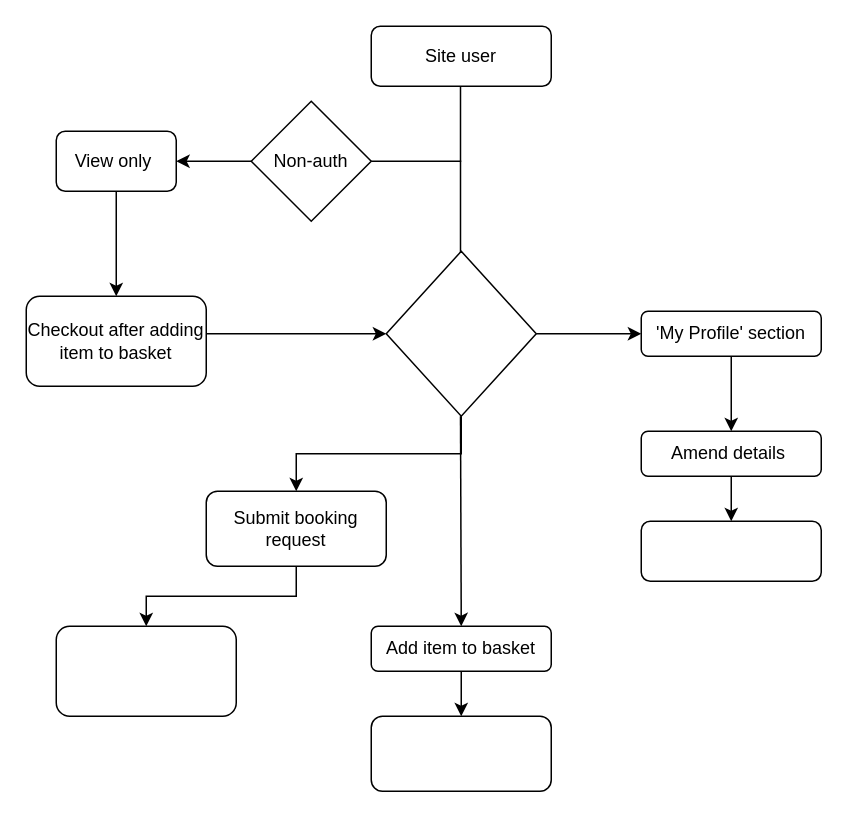
Image size: 848x818. Some labels were removed from this diagram. The centre of each missing label's shape, as x and y in pixels:
Checkout and payment: (460,753)
Delete account: (730,550)
Edit/Cancel booking in 'My Bookings': (145,670)
Register/login: (460,333)
